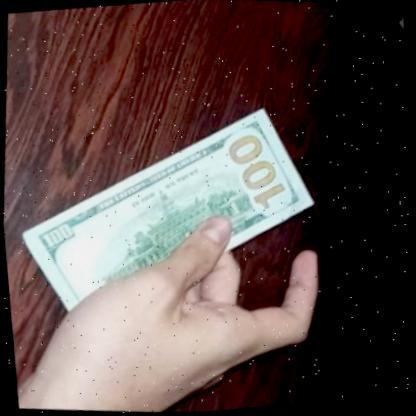one_hundred-back: (0, 73, 341, 403)
